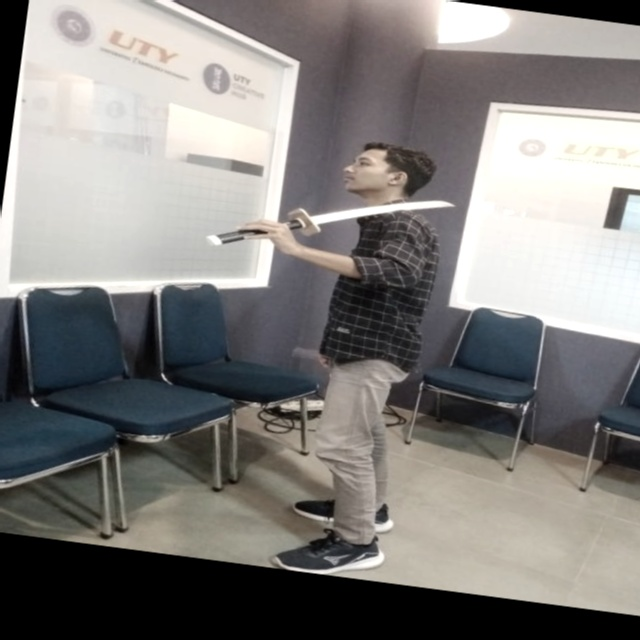Sharp-Object: (202, 164, 458, 277)
